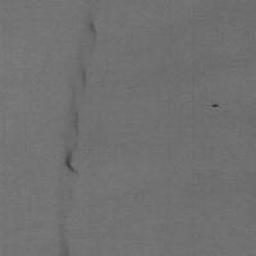Inclusion: (55, 0, 106, 256), (211, 102, 221, 109)
